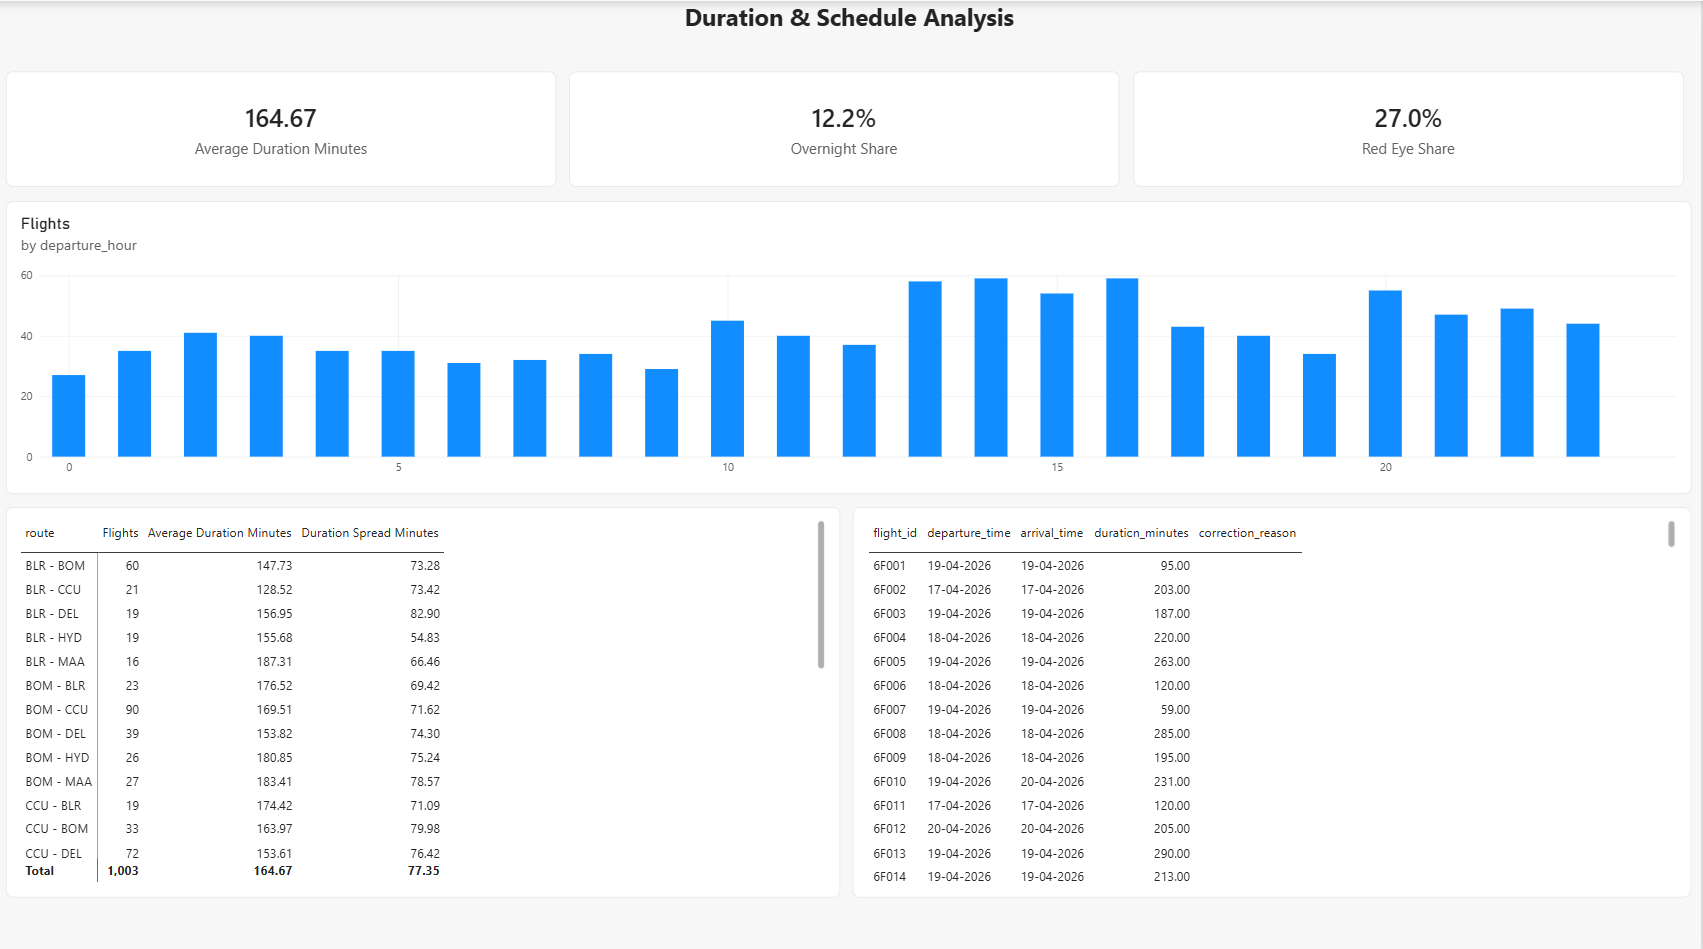

What the dashboard file says about the page in this screenshot:
{"tool":"powerbi","page":{"name":"Duration & Schedule","canvas":[1920,1080],"ordinal":1},"visuals":[{"type":"textbox","box":[10,0,1900,70],"z":0},{"type":"card","fields":{"Values":["_Measures.Average Duration Minutes"]},"box":[10,80,620,130],"z":100},{"type":"card","fields":{"Values":["_Measures.Overnight Share"]},"box":[645,80,620,130],"z":101},{"type":"card","fields":{"Values":["_Measures.Red Eye Share"]},"box":[1280,80,620,130],"z":102},{"type":"clusteredColumnChart","fields":{"Category":["fact_flight.departure_hour"],"Y":["_Measures.Flights"]},"box":[10,225,1900,330],"z":200},{"type":"pivotTable","fields":{"Rows":["dim_route.route"],"Values":["_Measures.Flights","_Measures.Average Duration Minutes","_Measures.Duration Spread Minutes"]},"box":[10,570,940,440],"z":210},{"type":"tableEx","fields":{"Values":["fact_flight.flight_id","fact_flight.departure_time","fact_flight.arrival_time","fact_flight.duration_minutes","fact_flight.correction_reason"]},"box":[965,570,945,440],"z":220}]}

Visuals, with their boxes in screenshot pixels (x1, y1, x2, y2), scaled from the page's 1920x1080 canvas onto the 1703x949 screenshot:
textbox: 9 0 1694 62
card - _Measures.Average Duration Minutes: 9 70 559 185
card - _Measures.Overnight Share: 572 70 1122 185
card - _Measures.Red Eye Share: 1135 70 1685 185
clusteredColumnChart - fact_flight.departure_hour x _Measures.Flights: 9 198 1694 488
pivotTable - dim_route.route x _Measures.Flights: 9 501 843 887
tableEx - fact_flight.flight_id x fact_flight.departure_time: 856 501 1694 887
